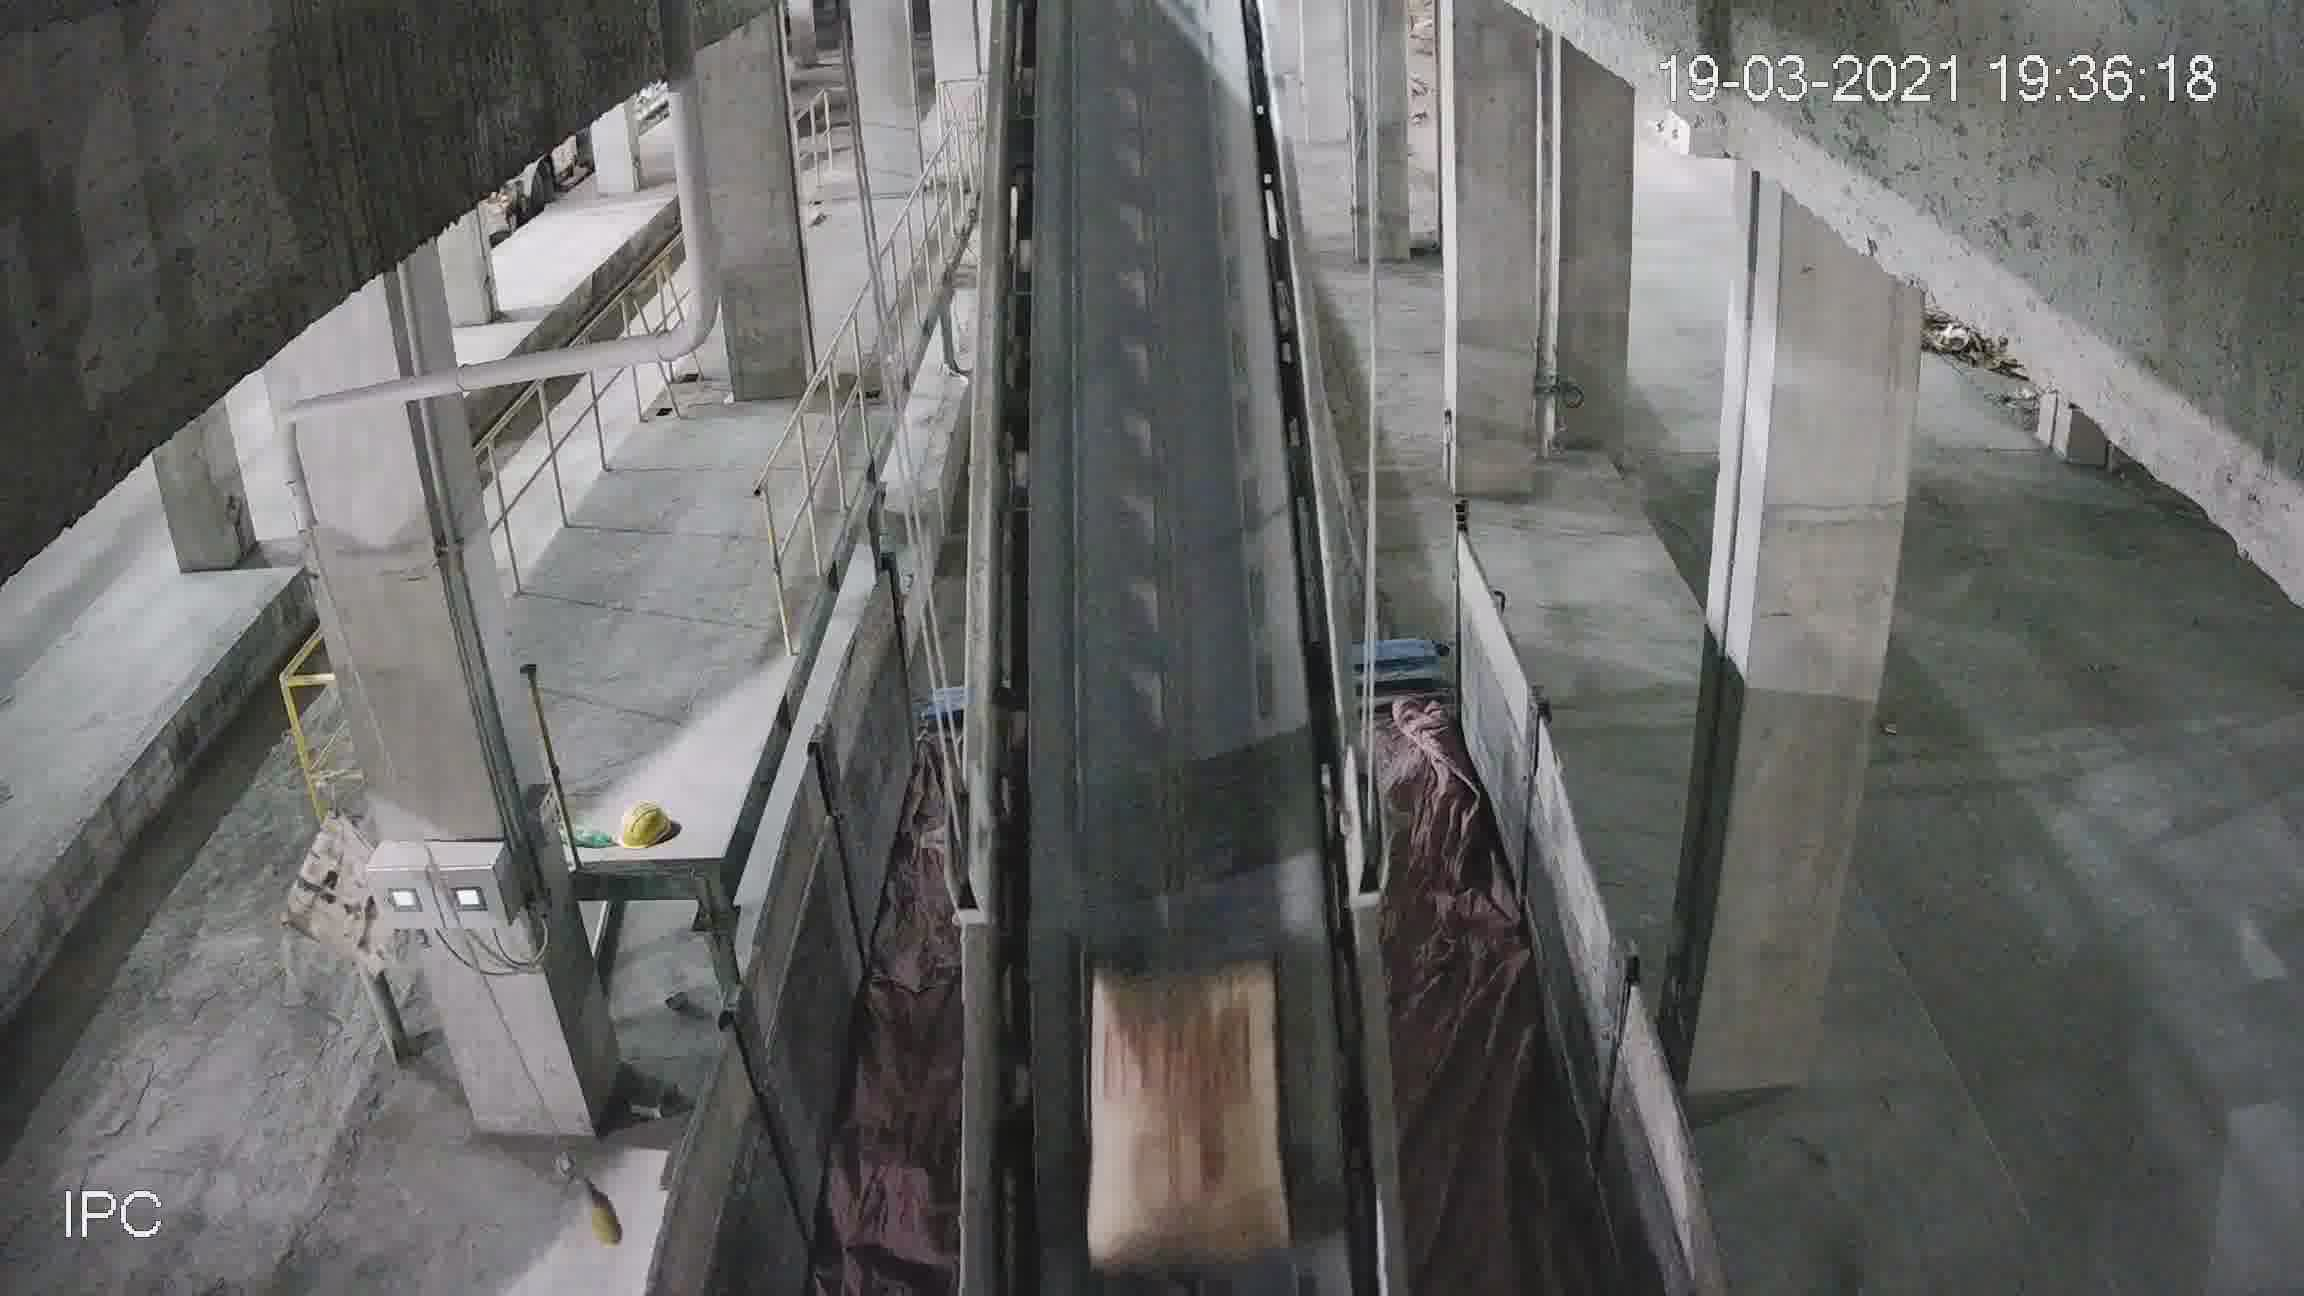bag: (1089, 970, 1283, 1260)
belt: (953, 17, 1388, 1215)
